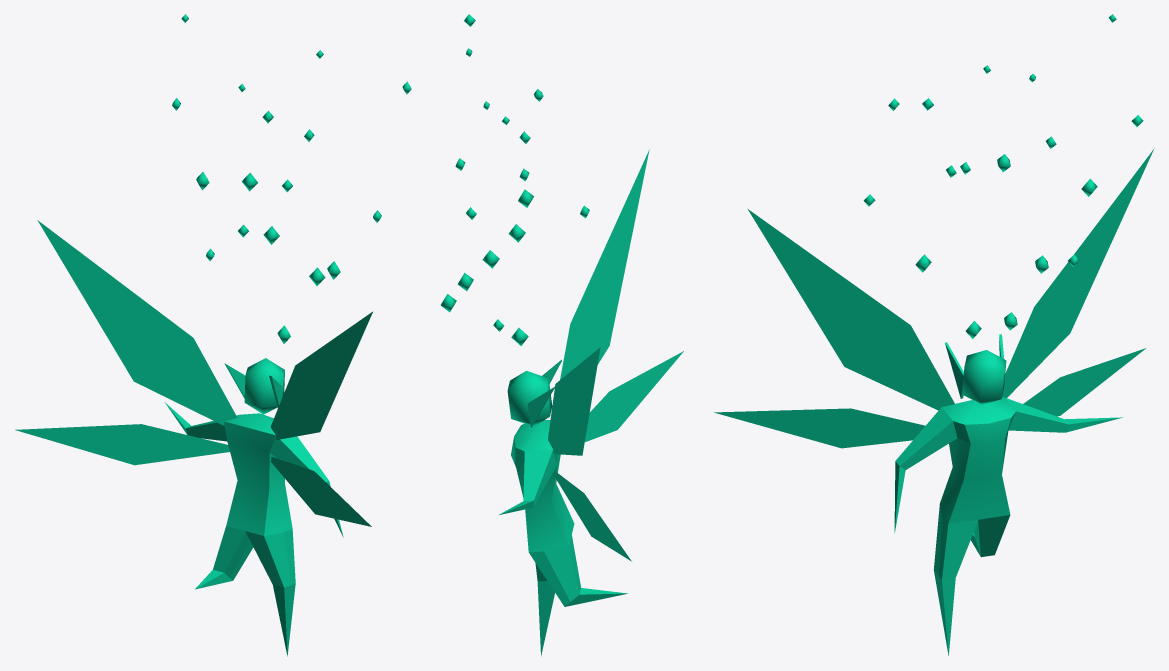
Rendered from fairy.fbx.
3 renders of one model, left to right at view 1: azimuth 30°, elevation 25°; view 2: azimuth 150°, elevation 25°; view 3: azimuth 270°, elevation 25°, orthographic. The views are drawn at different scales.
Visible parts, largest first — view 1: Box256; view 2: Box256; view 3: Box256.
Part boxes in pixels (bbox=[...]): Box256: bbox=[15, 14, 411, 656]; Box256: bbox=[440, 14, 683, 656]; Box256: bbox=[714, 14, 1154, 655].
Size of the model in its own units: 81.03 by 165 by 105.
